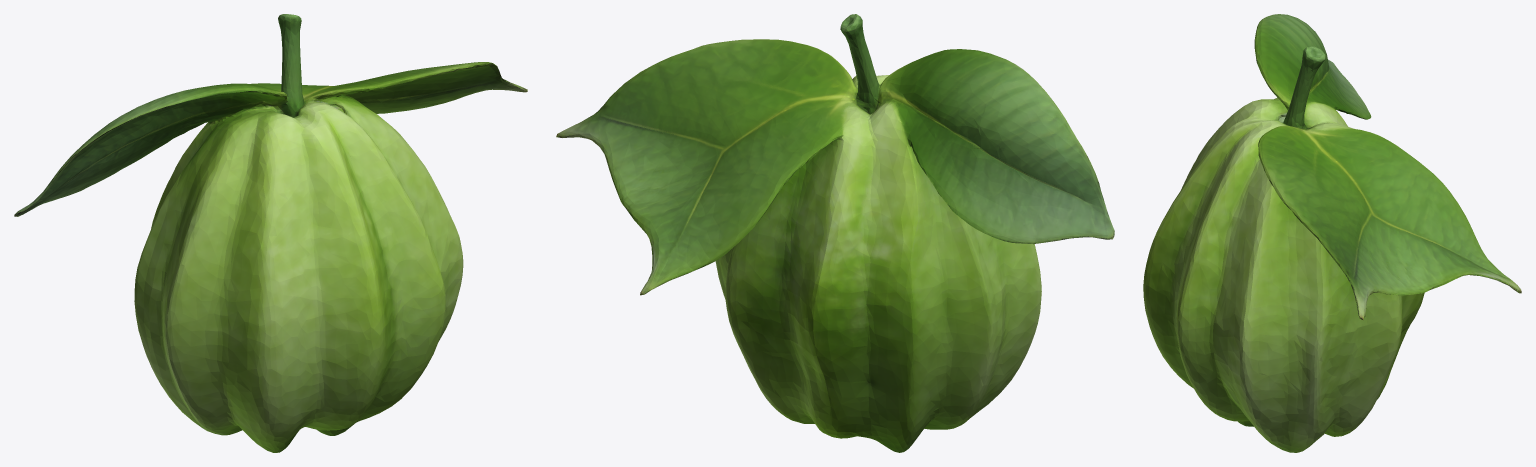
File: guava.glb
The picture shows the model from 3 angles, left to right: view 1: azimuth 30°, elevation 25°; view 2: azimuth 150°, elevation 25°; view 3: azimuth 270°, elevation 25°; orthographic projection. The views are drawn at different scales.
Visible parts, largest first — view 1: world; view 2: world; view 3: world.
Part boxes in pixels (x1,y1,x2,y2): world: [14, 14, 527, 452]; world: [556, 14, 1114, 452]; world: [1143, 14, 1521, 452].
Bounding box in the file's own units: 0.999 × 0.7378 × 0.6626.
Materials: 1 (1 with a texture image).
